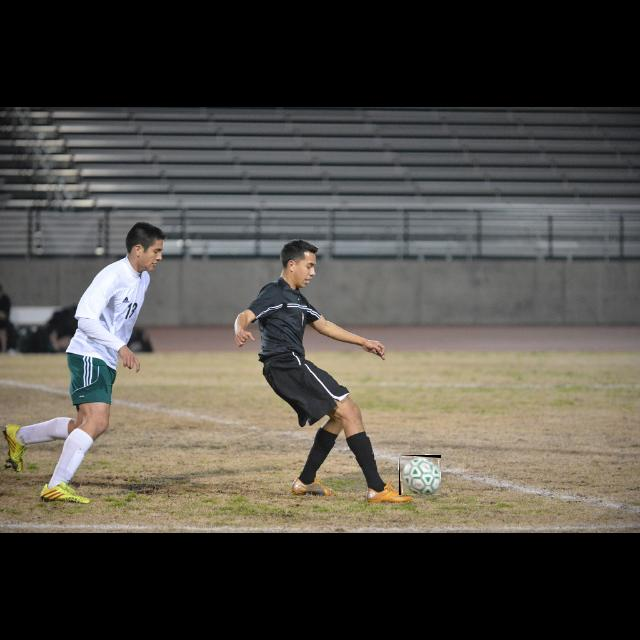Football: (399, 455, 441, 495)
